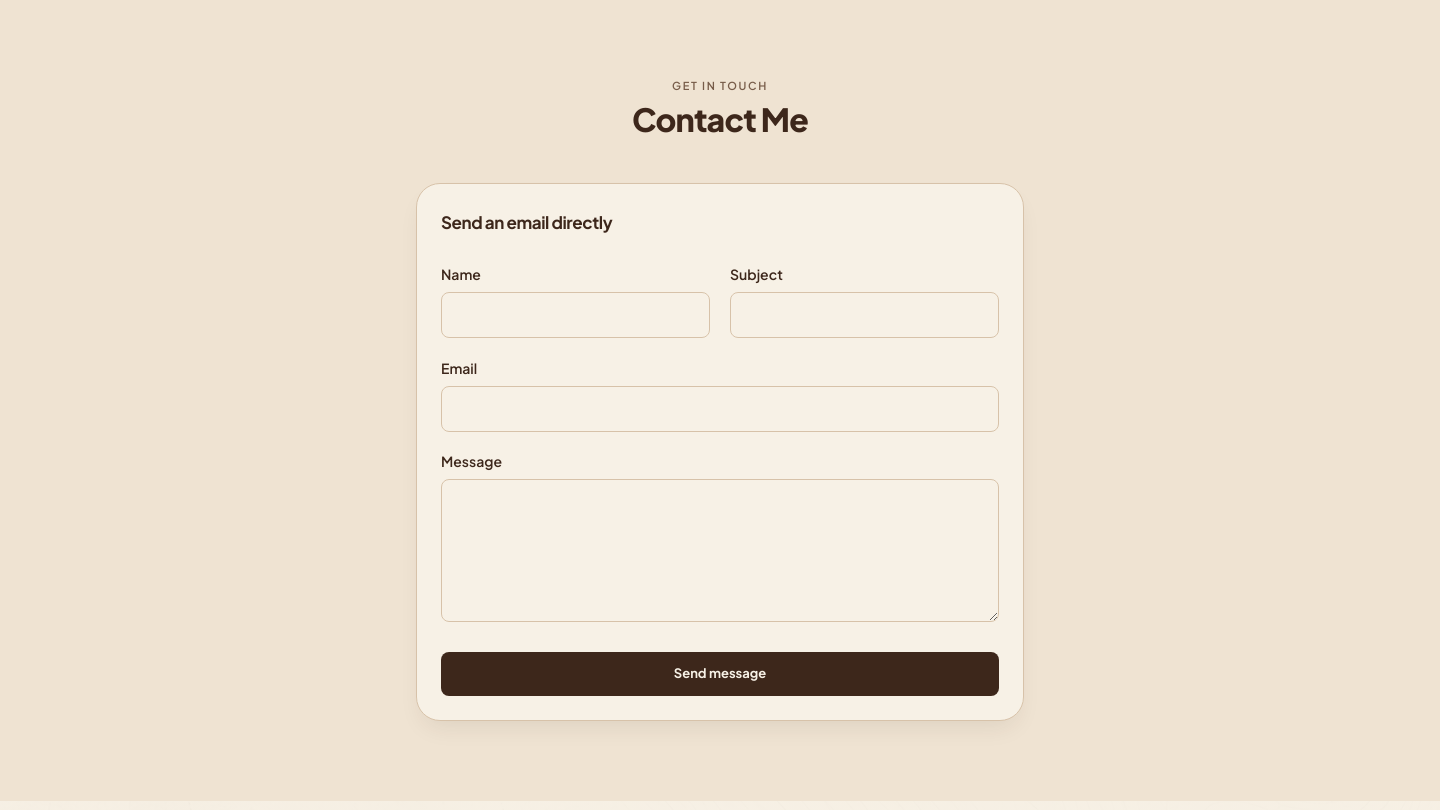
Test case: Contact › blocks invalid input
Click the button "Send message". click: click(720, 674)
box: [441, 652, 999, 696]
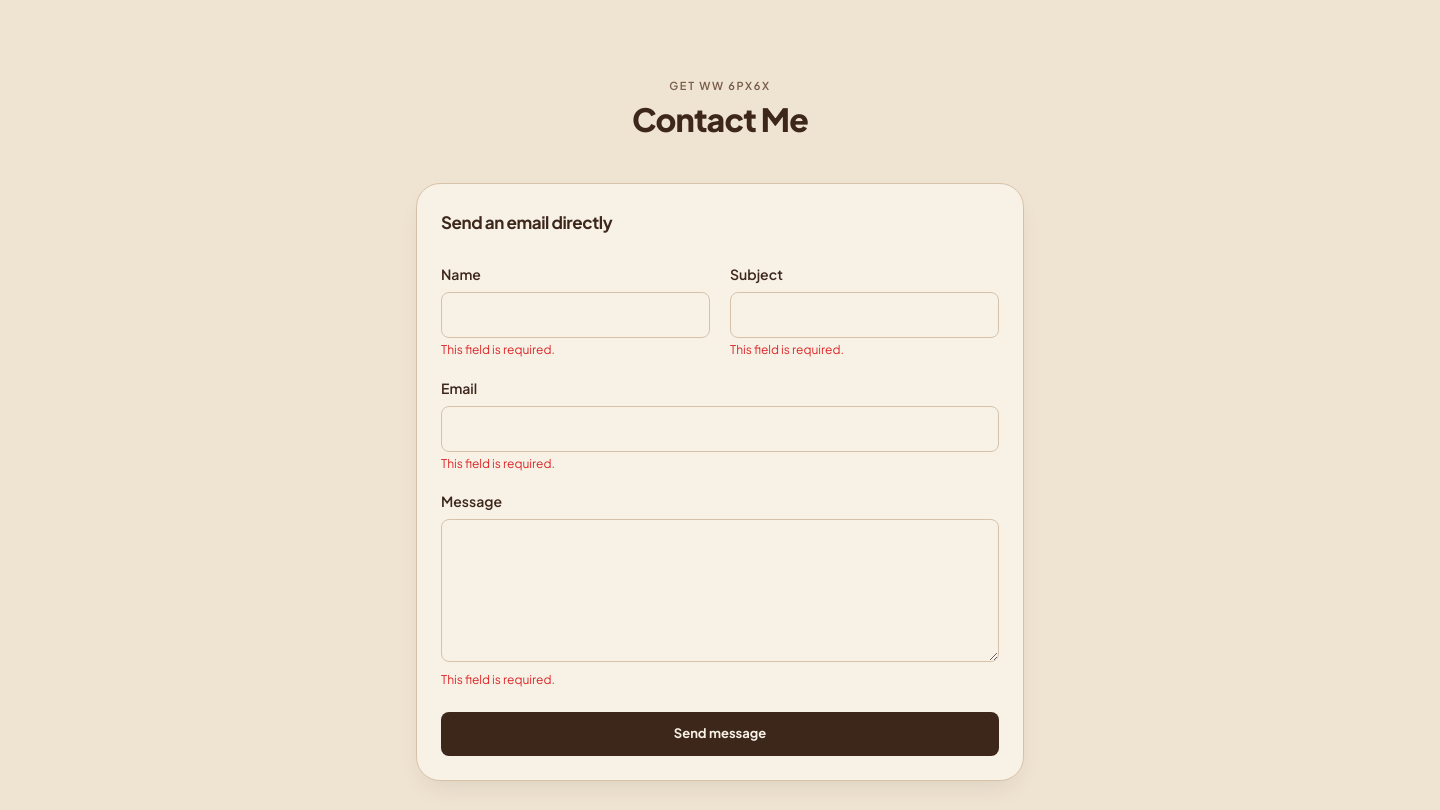
Expected: the text "This field is required." is shown 4 times, [441, 342, 555, 356]; [730, 342, 844, 356]; [441, 455, 555, 470]; [441, 672, 555, 687]
